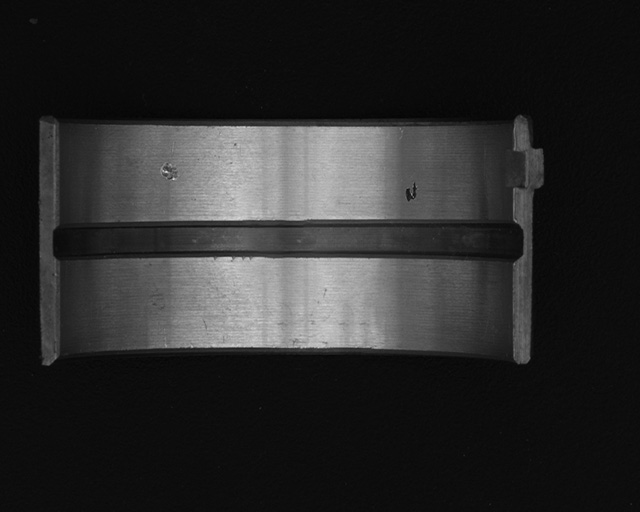blot: (405, 181, 418, 203)
bruise: (160, 161, 180, 182)
gap: (52, 217, 522, 262)
